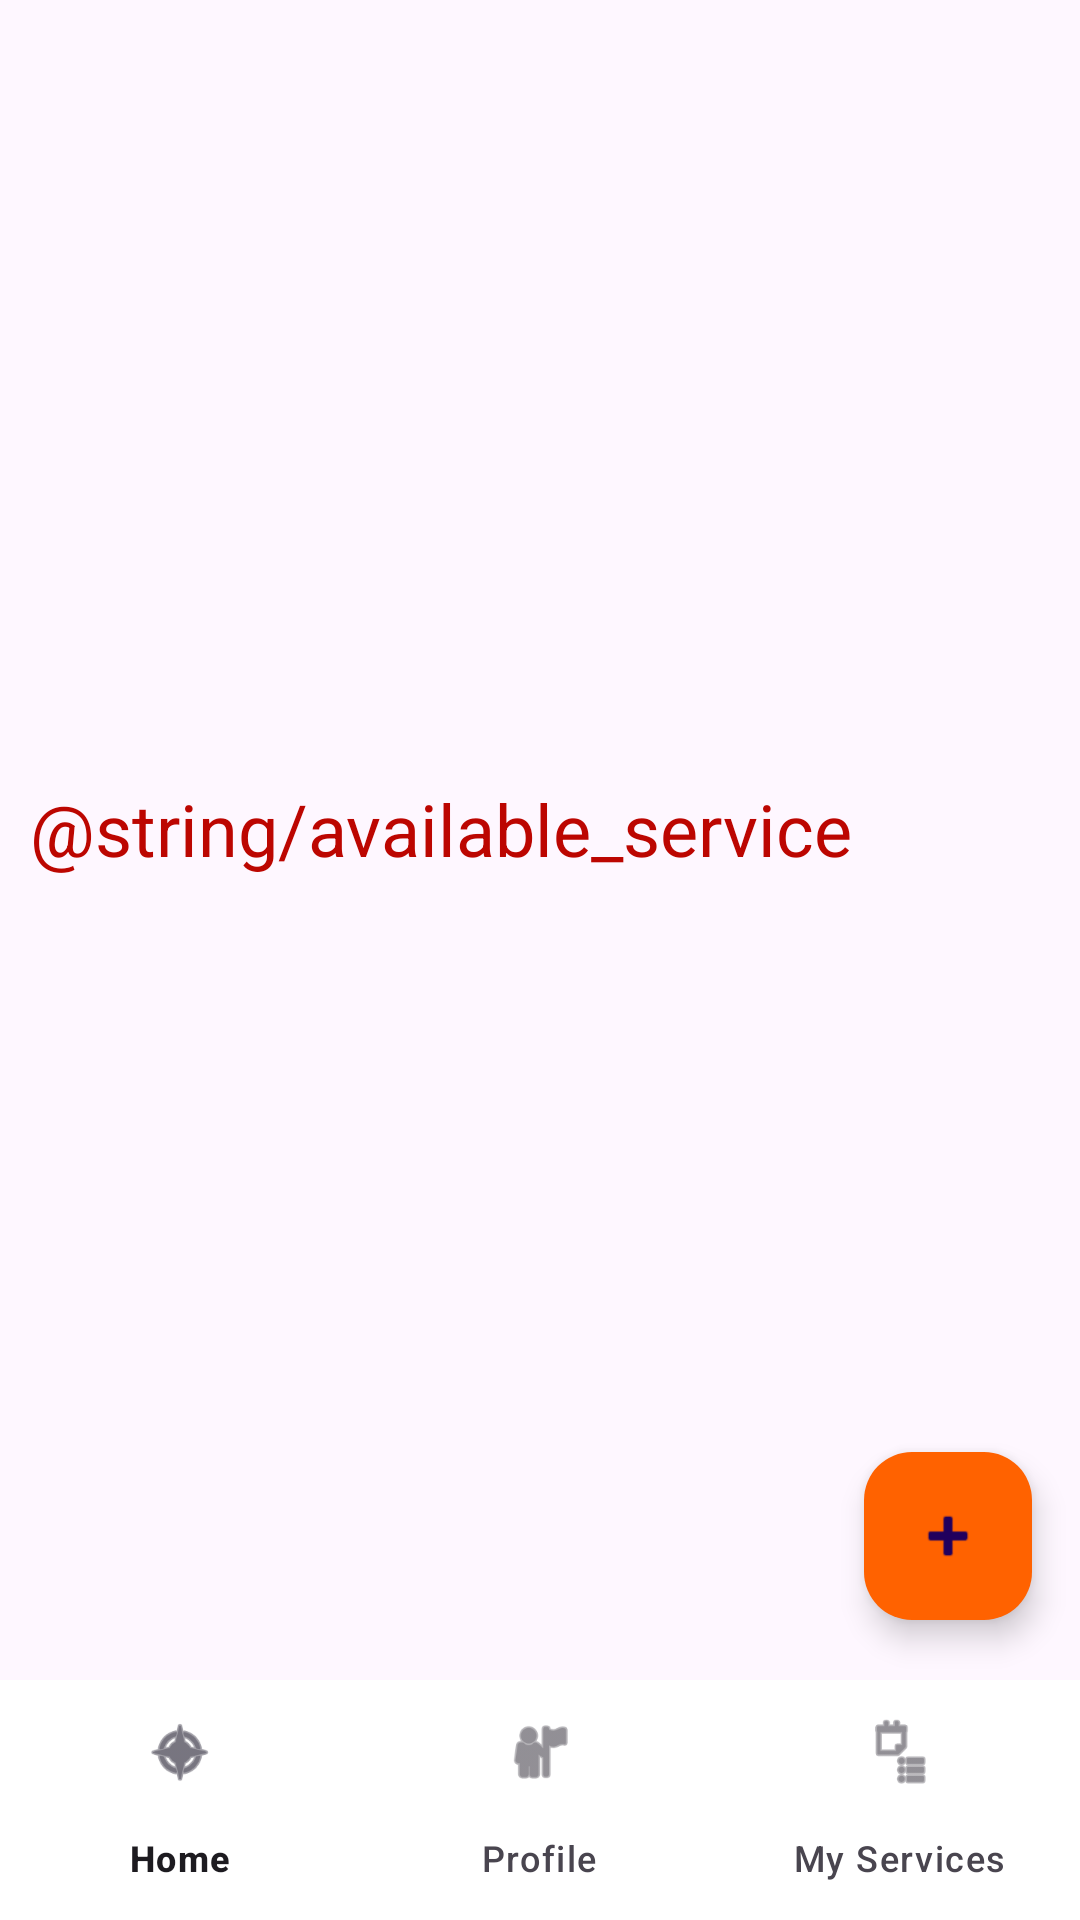

Screen size 1080 × 1920. Icon name, then its center in pixels as [x,y]:
add: [948,1536]
